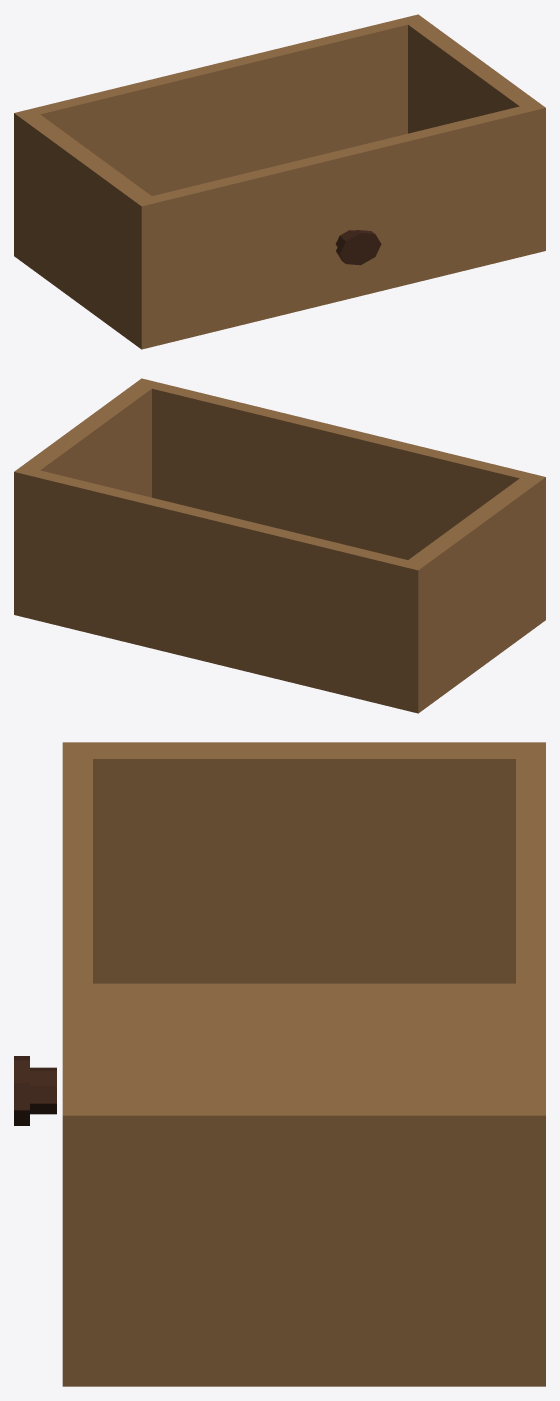
File: H_Cabinet_Drawer_2.fbx
3 views of the same model, one above another, from view 1: azimuth 30°, elevation 25°; view 2: azimuth 150°, elevation 25°; view 3: azimuth 270°, elevation 25° (orthographic). The views are drawn at different scales.
Visible parts, largest first — view 1: H_Cabinet_Drawer_2; view 2: H_Cabinet_Drawer_2; view 3: H_Cabinet_Drawer_2.
Boxes of the visible parts, x1,y1,x2,y2 form: H_Cabinet_Drawer_2: [14, 14, 545, 349]; H_Cabinet_Drawer_2: [14, 378, 545, 713]; H_Cabinet_Drawer_2: [14, 742, 545, 1386].
Bounding box in the file's own units: 403 × 242 × 136.
